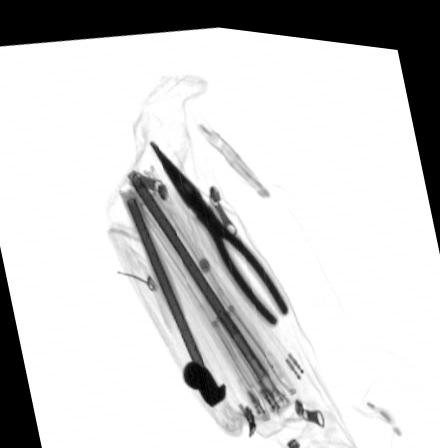Hammer: (120, 184, 225, 403)
Pliers: (149, 135, 287, 320)
